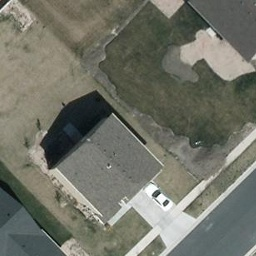car: (144, 181, 170, 211)
